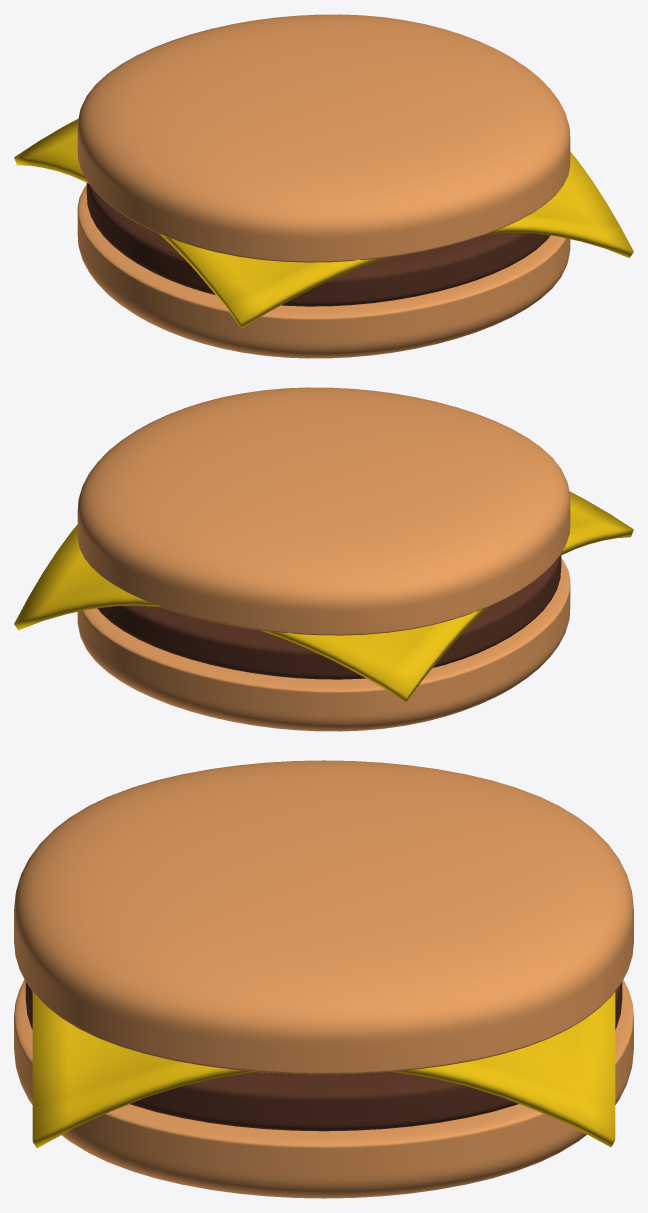
The model's file is hamburger.glb.
The picture shows the model from 3 angles, top to bottom: view 1: azimuth 30°, elevation 25°; view 2: azimuth 150°, elevation 25°; view 3: azimuth 270°, elevation 25°; orthographic projection. The views are drawn at different scales.
Visible parts, largest first — view 1: Cube.002, Cube, Plane, Cube.001; view 2: Cube.002, Cube, Plane, Cube.001; view 3: Cube.002, Cube, Plane, Cube.001.
Boxes of the visible parts, left/top/right/bottom form: Cube.002: left=77, top=14, right=570, bottom=262; Cube: left=77, top=185, right=570, bottom=358; Plane: left=14, top=119, right=633, bottom=328; Cube.001: left=86, top=183, right=550, bottom=306; Cube.002: left=77, top=387, right=570, bottom=635; Cube: left=77, top=558, right=570, bottom=731; Plane: left=14, top=491, right=633, bottom=702; Cube.001: left=97, top=556, right=561, bottom=679; Cube.002: left=14, top=760, right=633, bottom=1074; Cube: left=14, top=980, right=633, bottom=1198; Plane: left=32, top=992, right=615, bottom=1147; Cube.001: left=25, top=982, right=622, bottom=1131.
Size of the model in its own units: 4.35 by 1.92 by 4.35.
